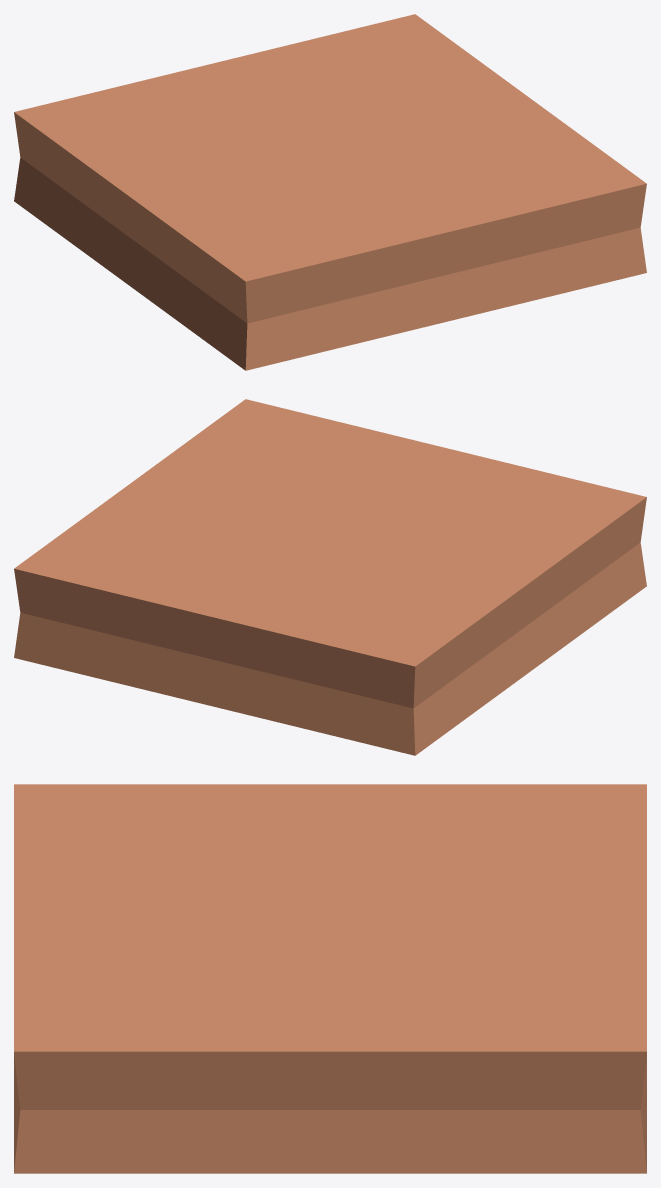
File: RoofFlatDetailC.fbx
3 views of the same model, one above another, from view 1: azimuth 30°, elevation 25°; view 2: azimuth 150°, elevation 25°; view 3: azimuth 270°, elevation 25° (orthographic). The views are drawn at different scales.
Visible parts, largest first — view 1: RoofFlatDetailC; view 2: RoofFlatDetailC; view 3: RoofFlatDetailC.
Part boxes in pixels (<box>): RoofFlatDetailC: <box>14,14,646,370</box>; RoofFlatDetailC: <box>14,399,646,755</box>; RoofFlatDetailC: <box>14,784,646,1173</box>.
Size of the model in its own units: 300 by 63.75 by 300.
